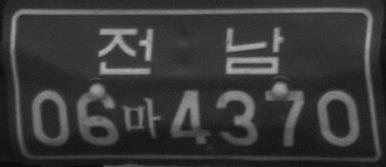0: (316, 88, 359, 148), (30, 89, 69, 147)
3: (216, 88, 259, 146)
4: (169, 89, 212, 144)
6: (75, 89, 120, 147)
7: (263, 88, 304, 146)
마: (121, 96, 161, 139)
전남_D: (98, 25, 284, 74)
